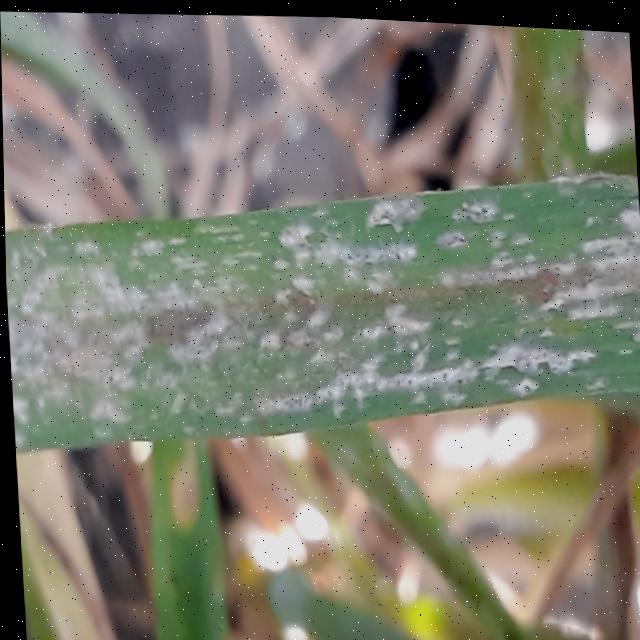powder_mildew: (2, 118, 640, 534)
